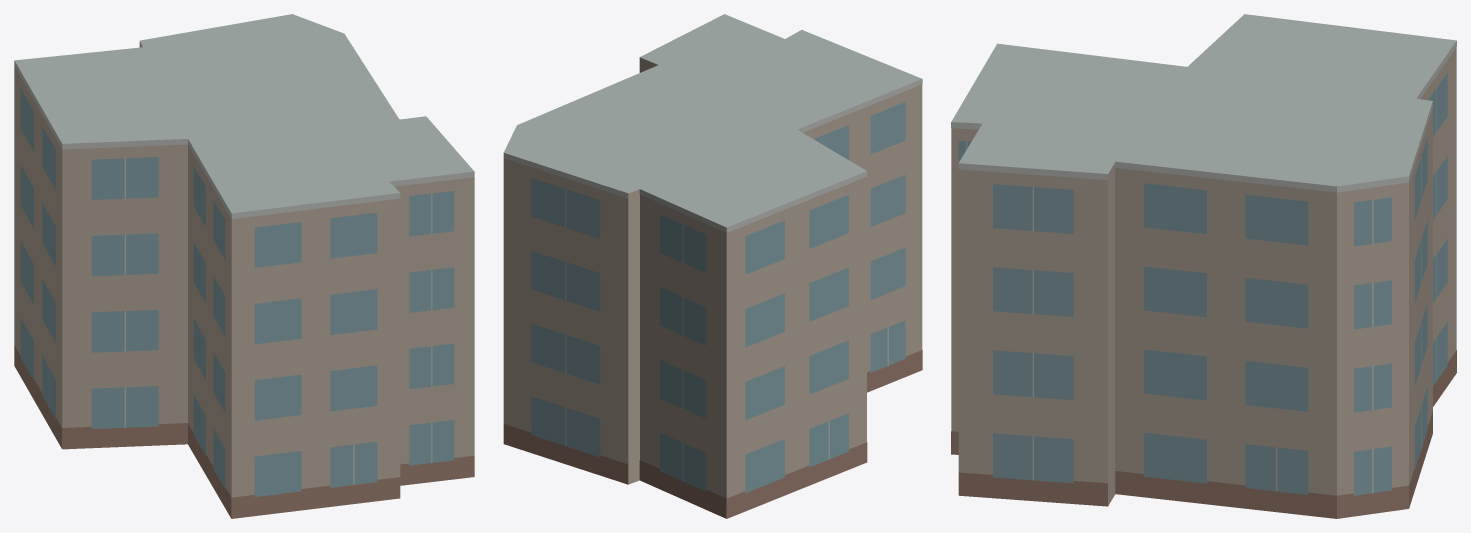
File: survey-upis-33031919.glb
3 renders of one model, left to right at view 1: azimuth 30°, elevation 25°; view 2: azimuth 150°, elevation 25°; view 3: azimuth 270°, elevation 25°, orthographic. The views are drawn at different scales.
Parts seen in each view (by area): view 1: survey-upis-33031919.tmp; view 2: survey-upis-33031919.tmp; view 3: survey-upis-33031919.tmp.
Boxes of the visible parts, x1,y1,x2,y2 form: survey-upis-33031919.tmp: (14, 14, 474, 518); survey-upis-33031919.tmp: (503, 14, 922, 518); survey-upis-33031919.tmp: (951, 14, 1456, 518).
Bounding box in the file's own units: 14.58 × 13.1 × 18.07.
